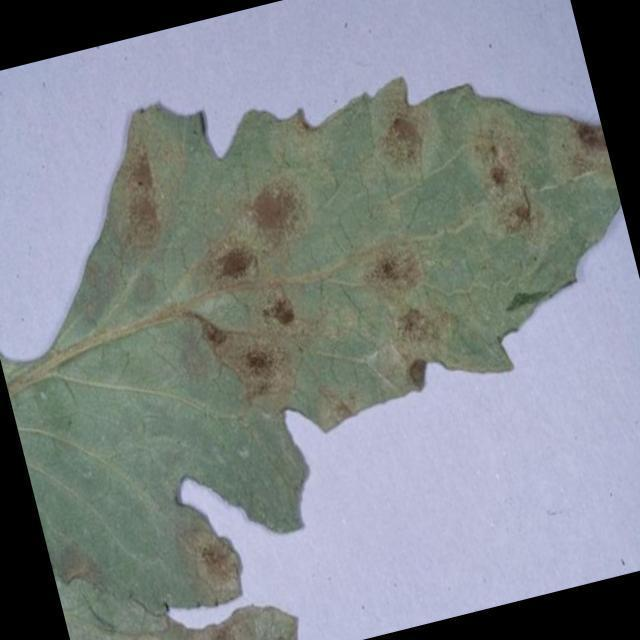Mosaic Virus: (114, 30, 640, 465), (173, 510, 246, 602)
